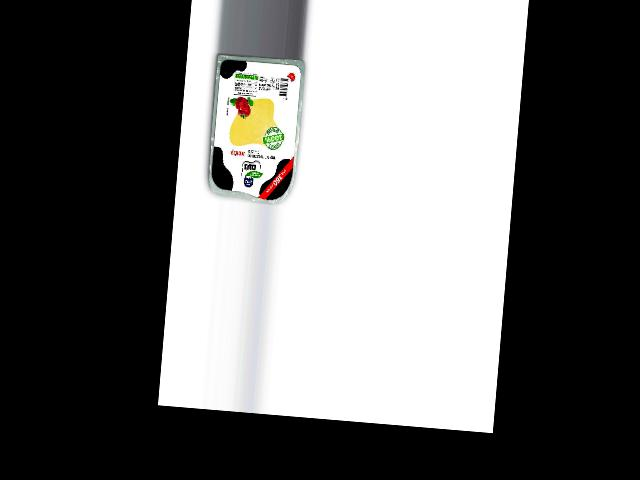cheese: (205, 53, 305, 206)
